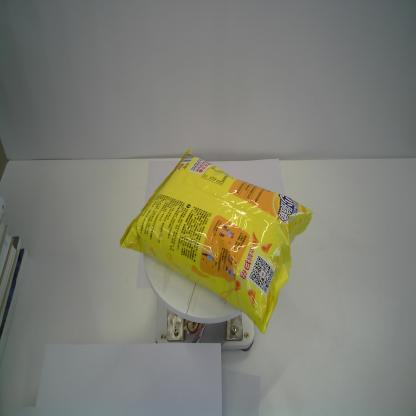Puffed Food: (120, 149, 313, 334)
